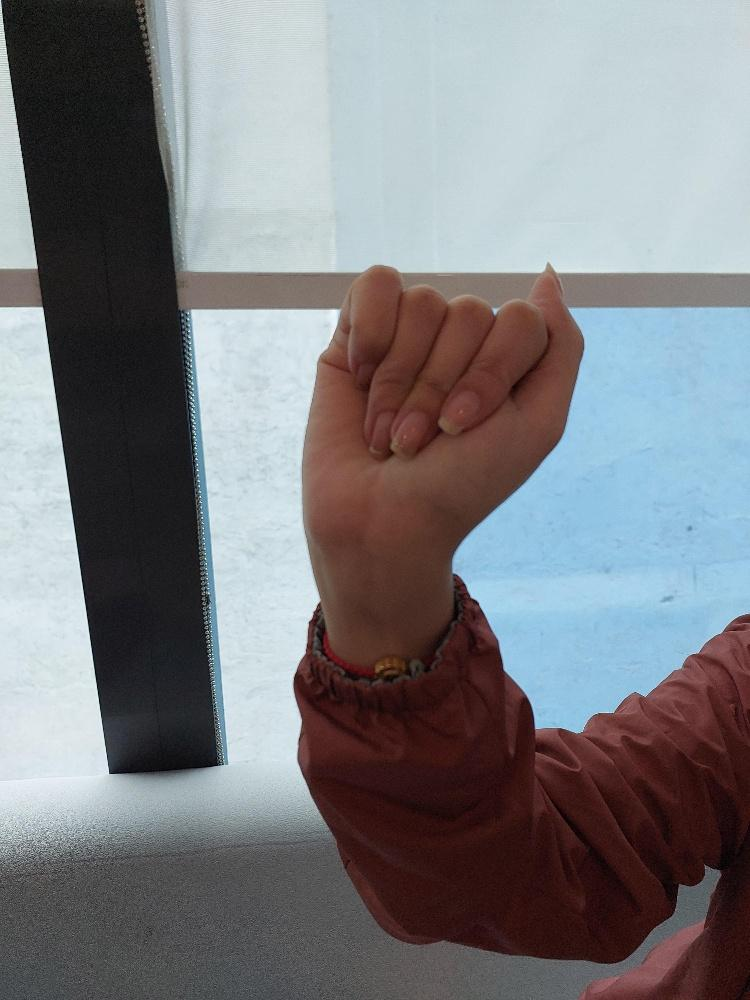a: (299, 256, 586, 554)
